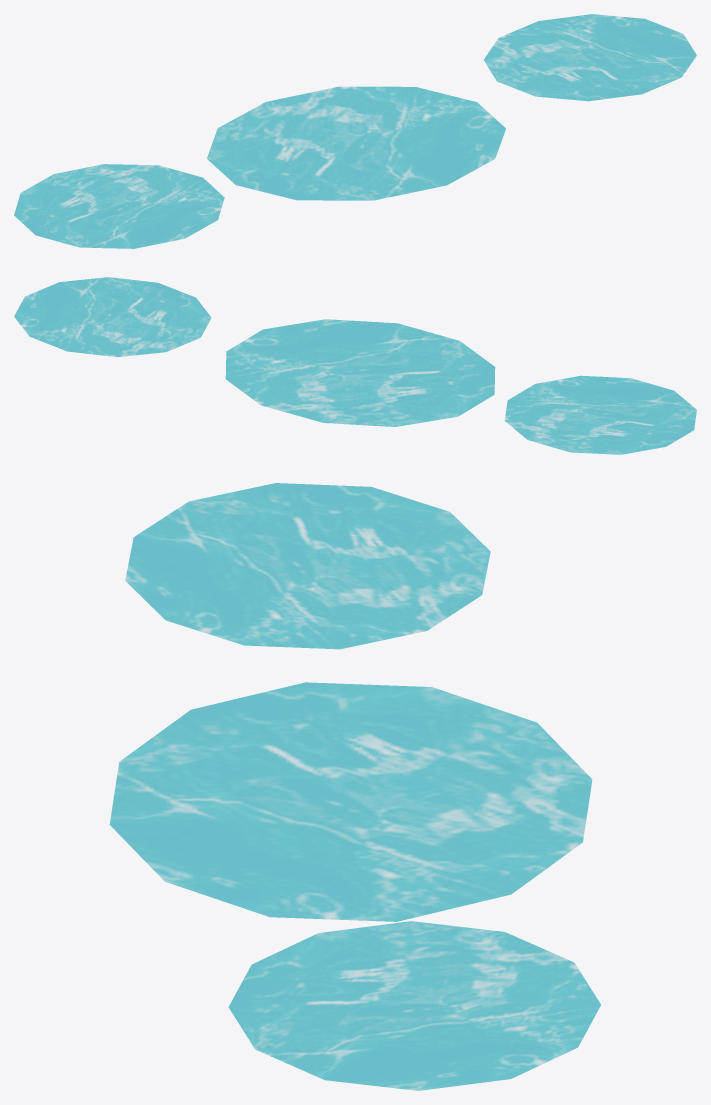
File: xsz_shui_2.FBX
3 views of the same model, one above another, from view 1: azimuth 30°, elevation 25°; view 2: azimuth 150°, elevation 25°; view 3: azimuth 270°, elevation 25° (orthographic). The views are drawn at different scales.
Parts seen in each view (by area): view 1: xsz_shui_2; view 2: xsz_shui_2; view 3: xsz_shui_2.
Boxes of the visible parts, x1=… form: xsz_shui_2: x1=14, y1=14, x2=696, y2=248; xsz_shui_2: x1=14, y1=277, x2=696, y2=454; xsz_shui_2: x1=109, y1=483, x2=600, y2=1090.
Size of the model in its own units: 1865 by 31.26 by 627.
